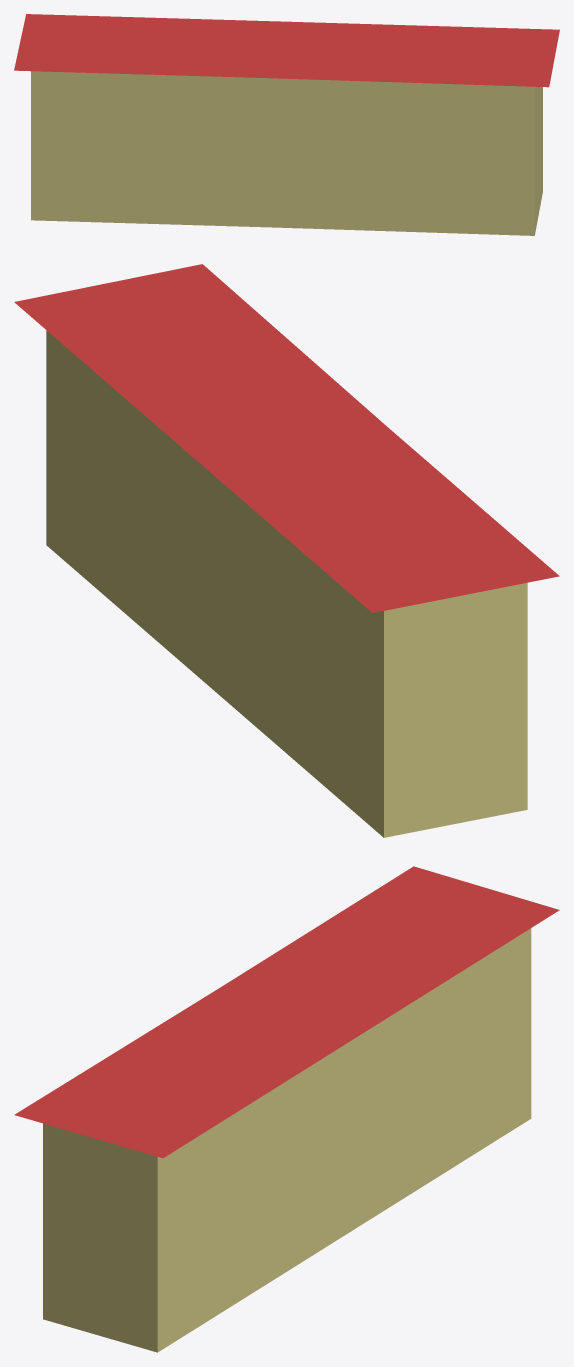
3 renders of one model, top to bottom at view 1: azimuth 30°, elevation 25°; view 2: azimuth 150°, elevation 25°; view 3: azimuth 270°, elevation 25°, orthographic. The views are drawn at different scales.
Visible parts, largest first — view 1: group_5, group_3, group_4; view 2: group_5, group_3, group_4; view 3: group_5, group_3, group_4.
Boxes of the visible parts, left/top/right/bottom form: group_5: left=31, top=71, right=542, bottom=235; group_3: left=14, top=14, right=559, bottom=87; group_4: left=26, top=14, right=559, bottom=86; group_5: left=46, top=330, right=527, bottom=837; group_3: left=14, top=264, right=559, bottom=612; group_4: left=16, top=264, right=464, bottom=612; group_5: left=43, top=928, right=531, bottom=1352; group_3: left=14, top=866, right=557, bottom=1157; group_4: left=16, top=895, right=559, bottom=1157.
Size of the model in its own units: 49.61 by 39.2 by 16.37.
